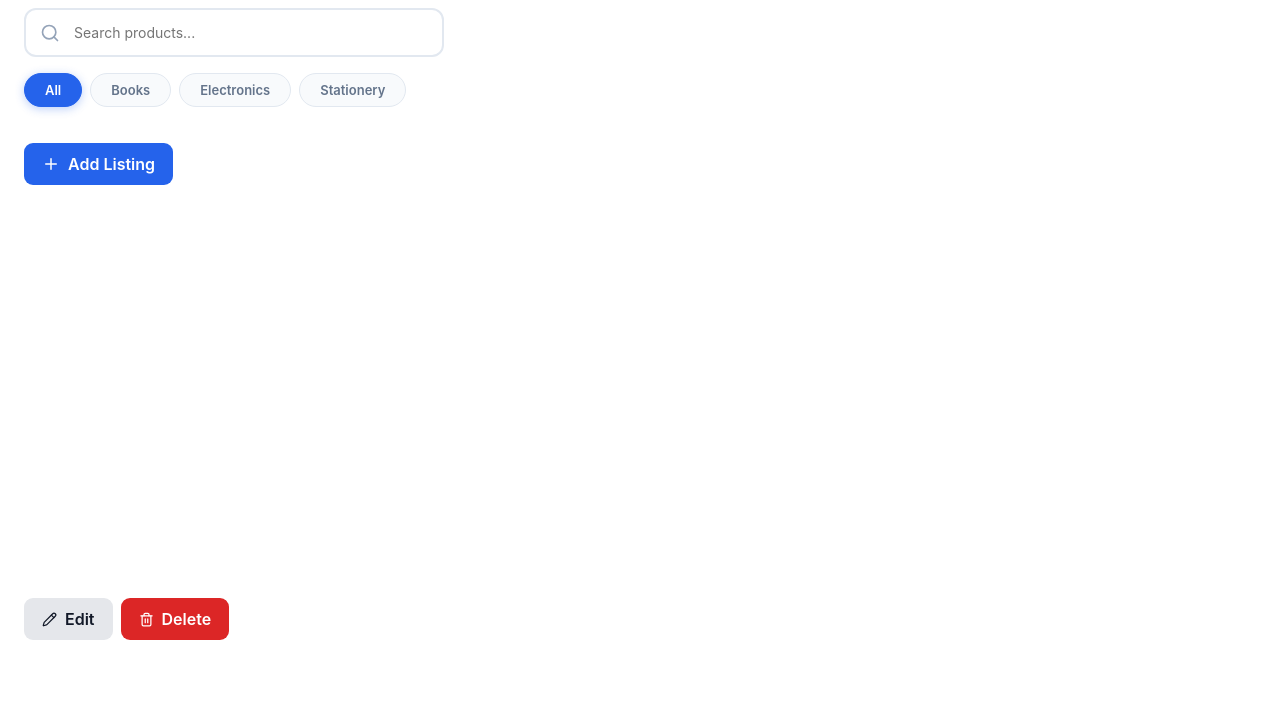
it: Marketplace Page › updates a listing owned by the current user
(page scrolled)
Click the button "Edit" at (68, 619), box [24, 598, 112, 640]
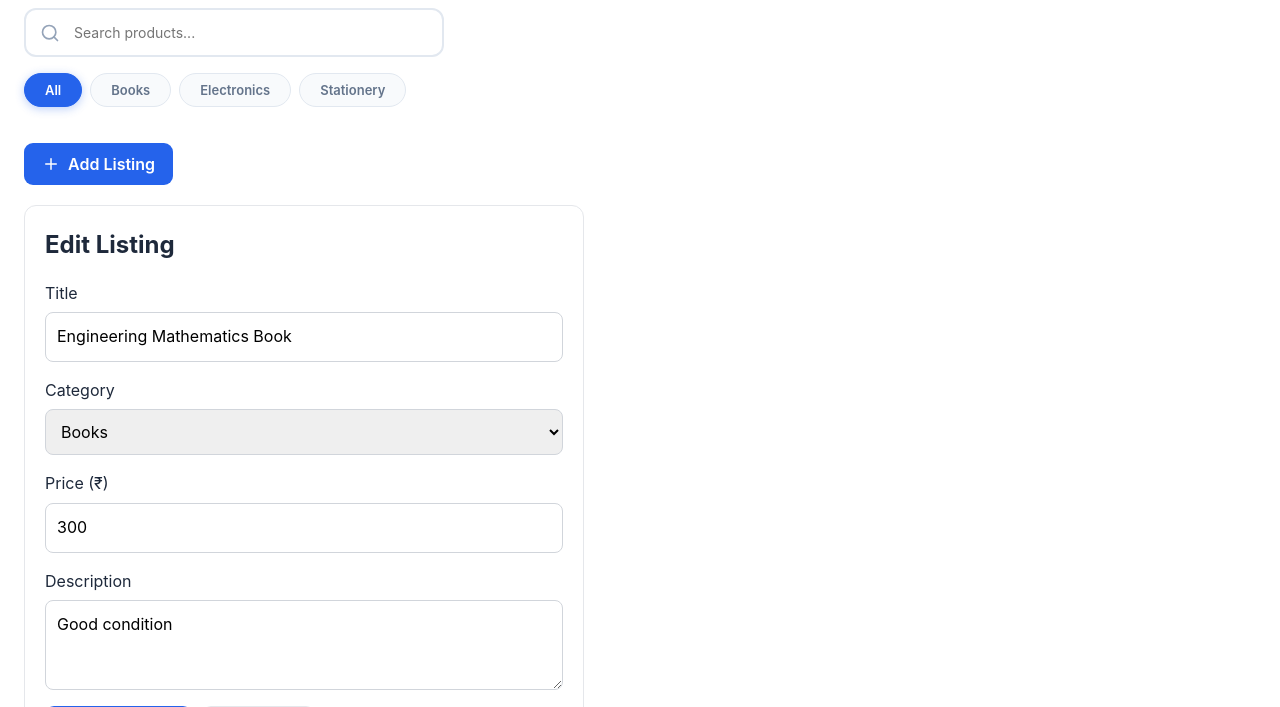
Replace the text in the field labelled "Title" with "Updated Mathematics Book" at (304, 337), box [45, 312, 563, 362]
(page scrolled)
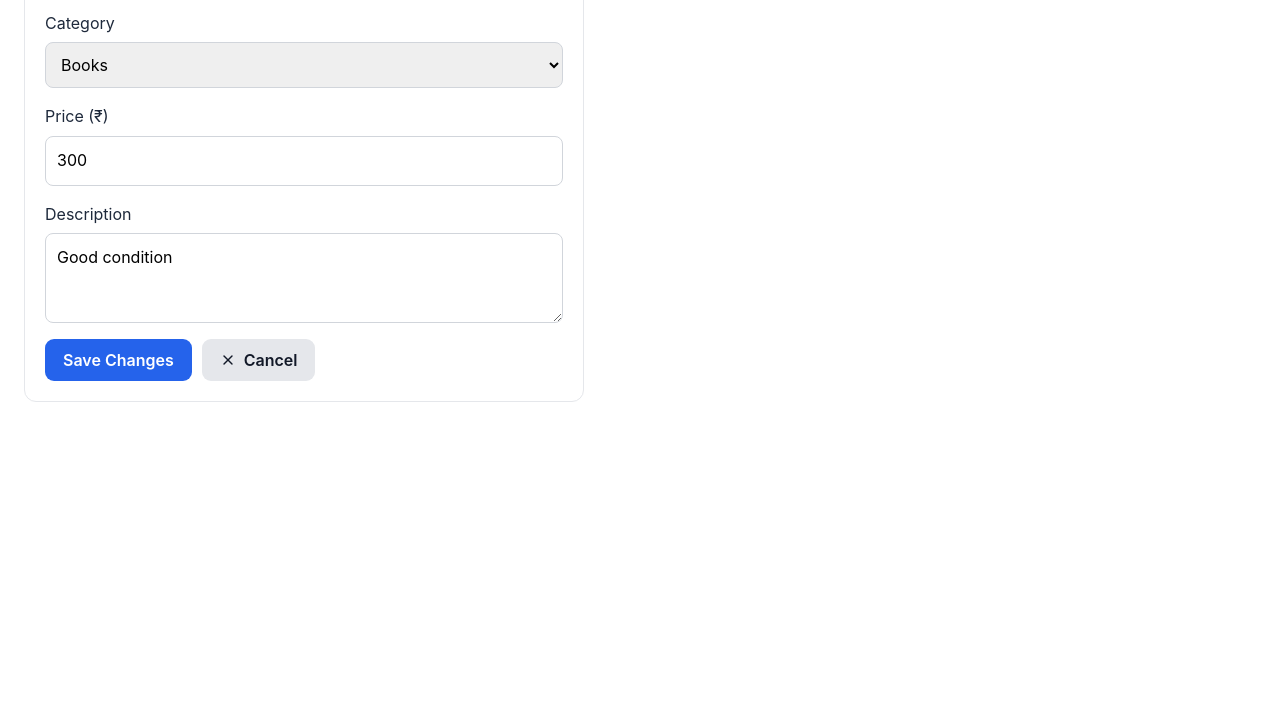
Click the button "Save Changes" at (118, 360), box [45, 339, 192, 381]
(page scrolled)
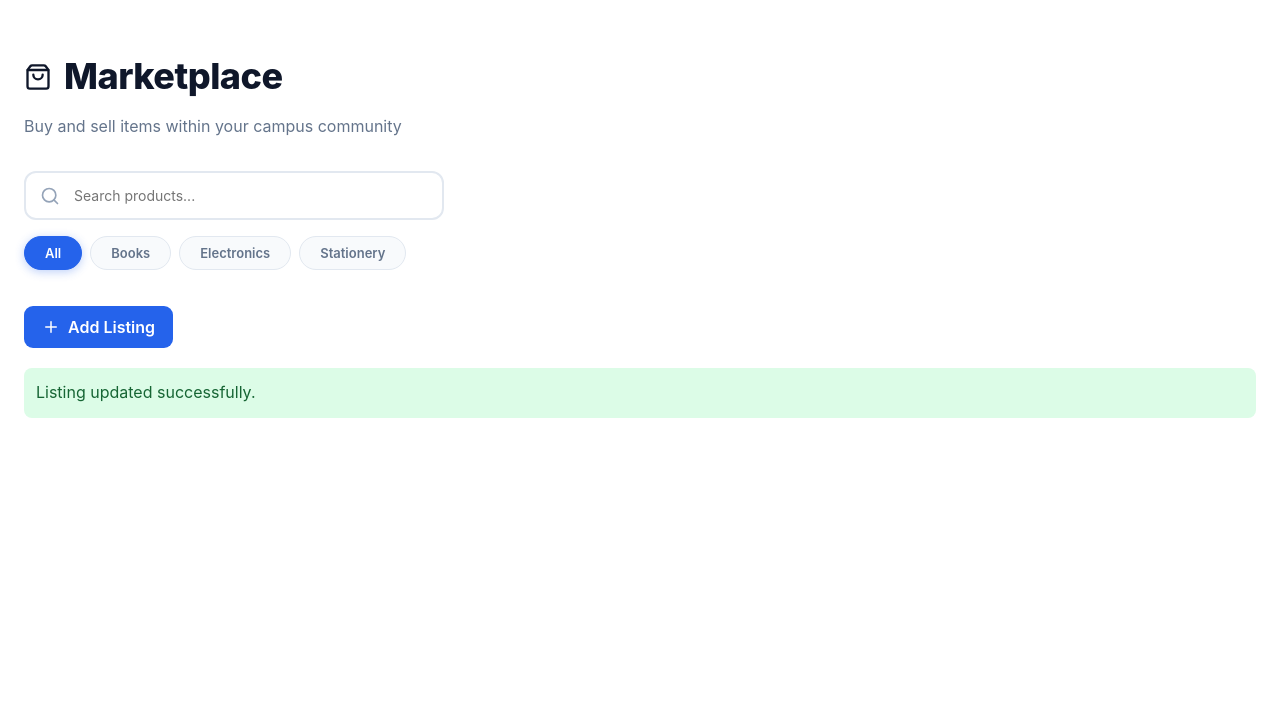
Expected: the message reads "Listing updated successfully.", [36, 382, 256, 402]
